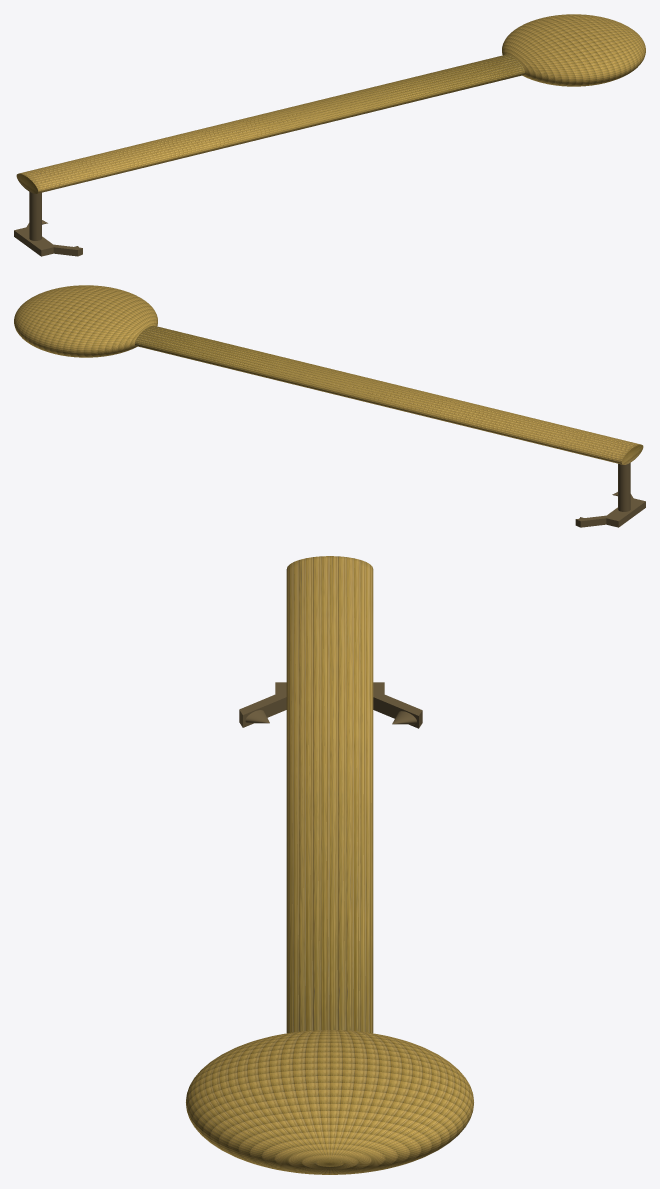
File: anchor.obj
3 views of the same model, one above another, from view 1: azimuth 30°, elevation 25°; view 2: azimuth 150°, elevation 25°; view 3: azimuth 270°, elevation 25° (orthographic). The views are drawn at different scales.
Parts seen in each view (by area): view 1: Cylinder.001; view 2: Cylinder.001; view 3: Cylinder.001.
Part boxes in pixels (x1,y1,x2,y2): Cylinder.001: (14,14,645,256); Cylinder.001: (14,285,645,527); Cylinder.001: (186,556,473,1174).
Size of the model in its own units: 8.94 by 1.16 by 1.83.
